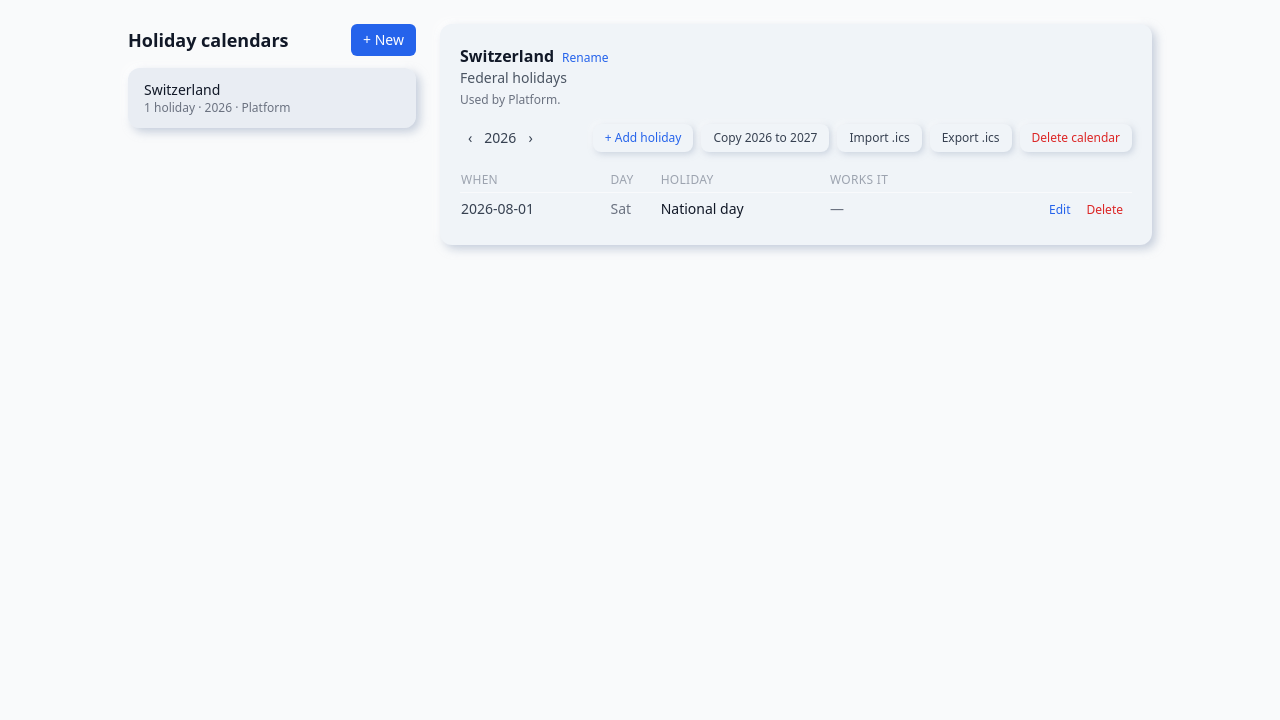
it: CalendarsPage › warns which teams lose holidays before deleting a calendar
Click the button "Delete calendar" at (1076, 138), box [1020, 124, 1132, 152]
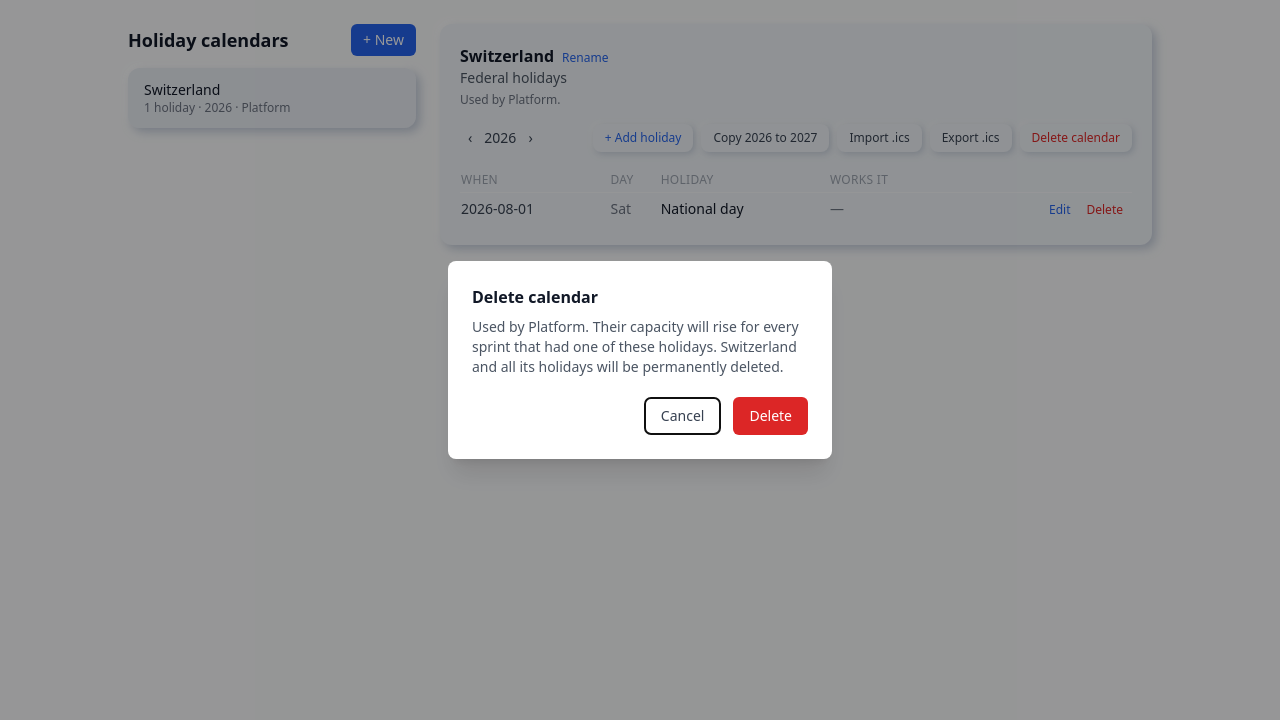
Check: the dialog shows "Used by Platform. Their capacity will rise", box [472, 317, 799, 376]
